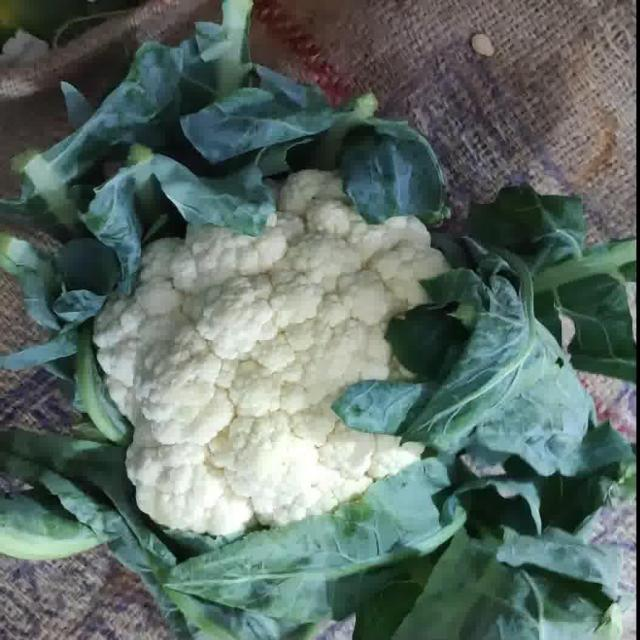Cauliflower: (95, 171, 449, 538)
